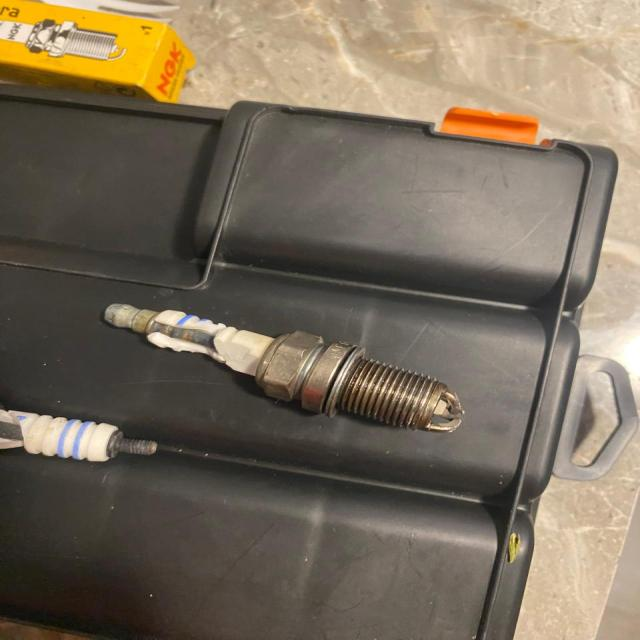damaged_spark-plug: (87, 285, 473, 437)
